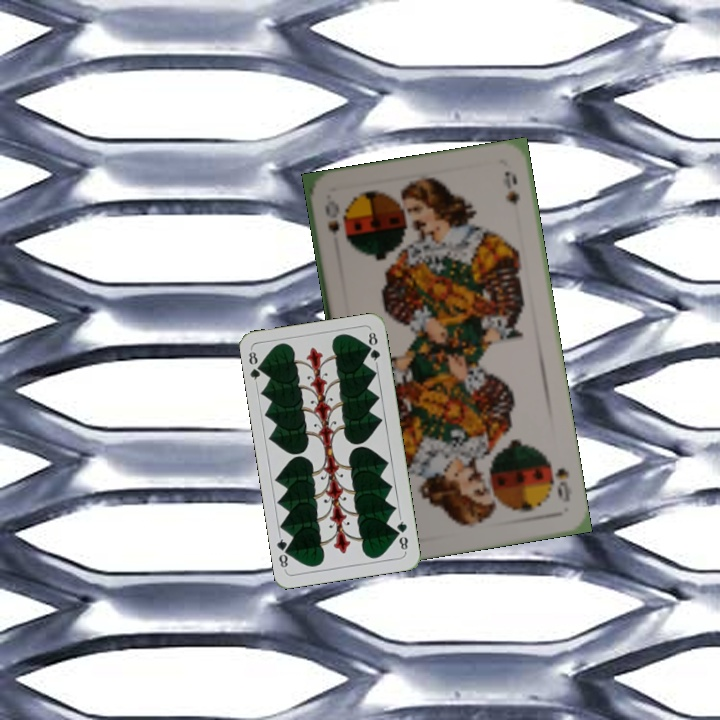G8: (245, 346, 266, 386), (392, 514, 411, 554)
SO: (545, 457, 574, 505), (321, 196, 343, 236)
